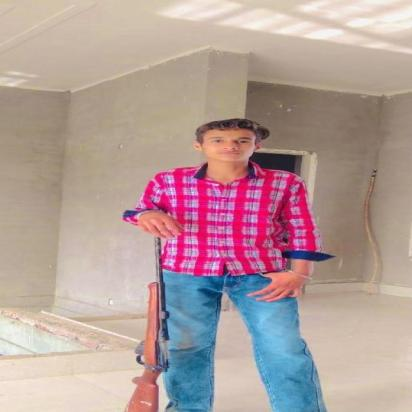Gun: (128, 219, 178, 411)
